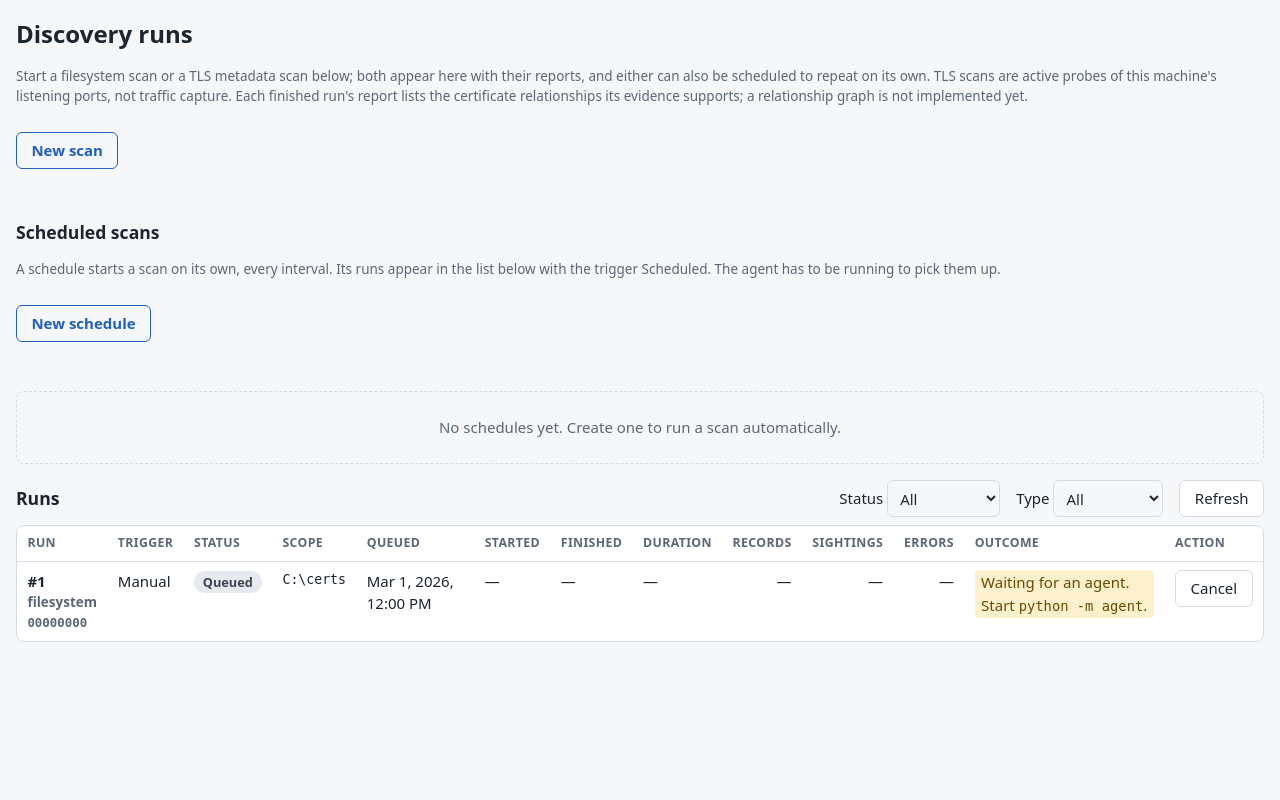
Test: cancelling › cancels a queued run and shows what the backend says it now is
This screenshot has width=1280, height=800.
expect the table is shown: met, box [17,526,1263,641]
Click the button with aria-label "Cancel run 1" at x=1214, y=588, box [1175,570,1253,607]
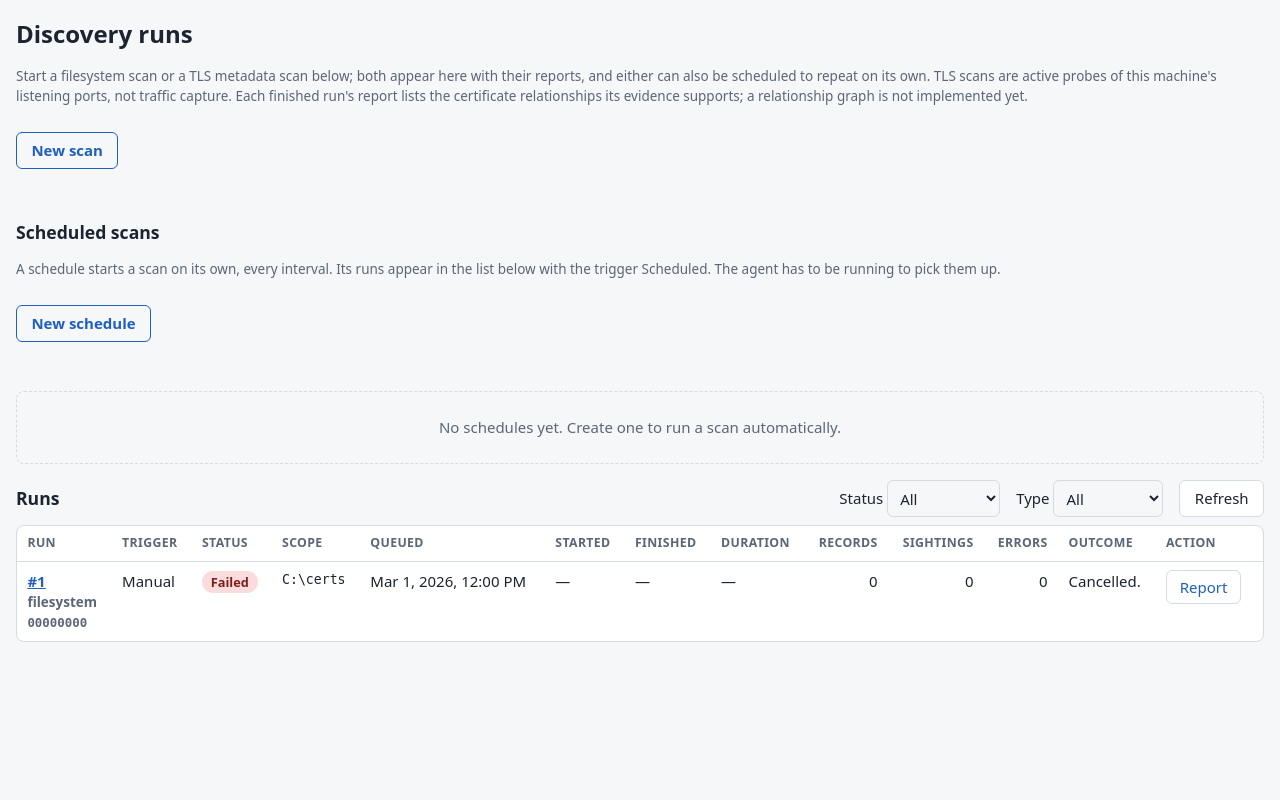
expect the text "Failed" is shown: met, box [202,571,258,593]
expect the text "Cancelled." is shown: met, box [1068,571,1141,591]
